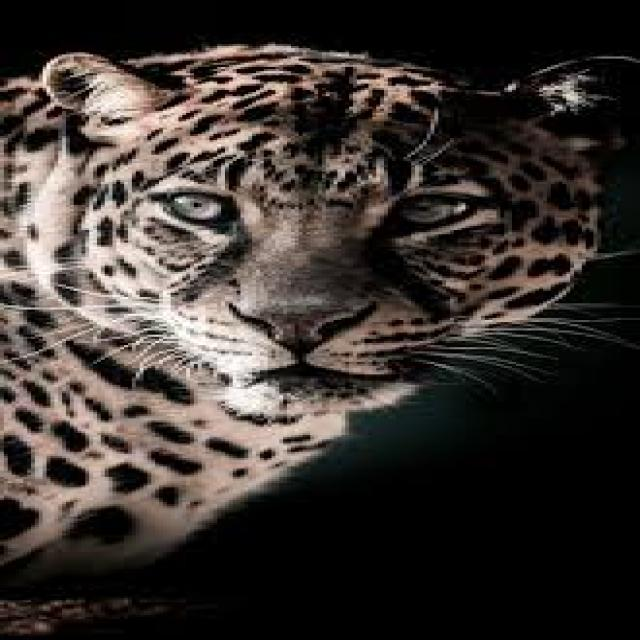Jaguar: (8, 40, 574, 600)
